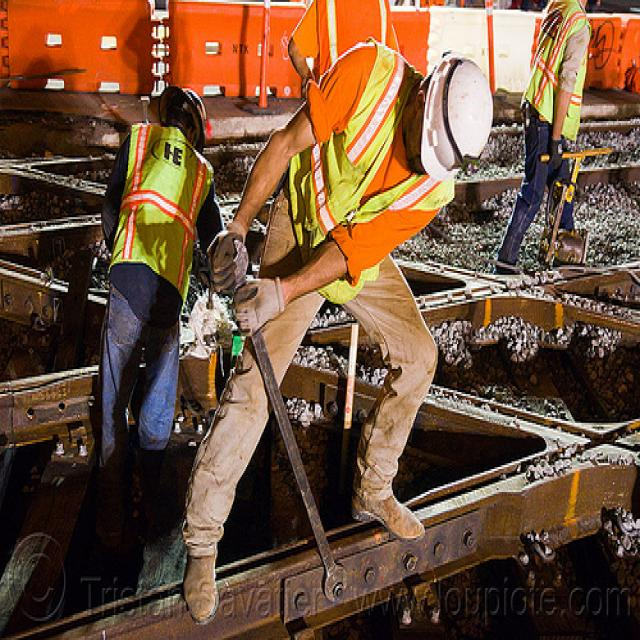Reflective-Jacket: (285, 73, 452, 300), (105, 123, 216, 304), (524, 4, 595, 144)
Safety-Helmet: (446, 60, 494, 162)
